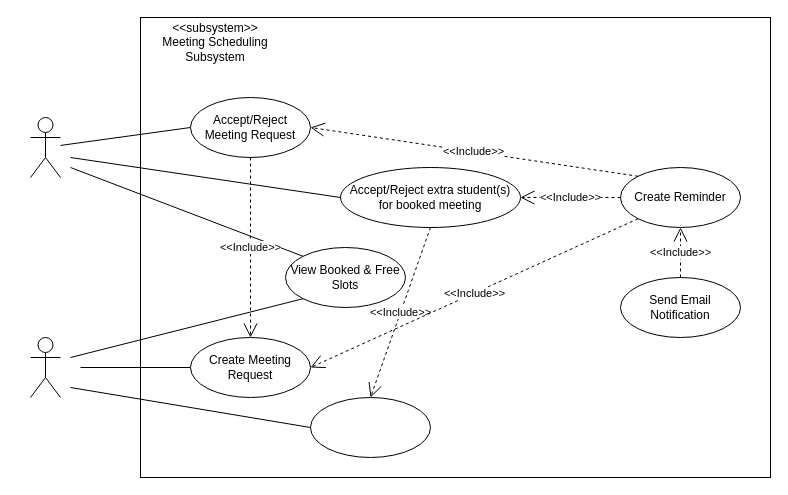
Image size: 788x495. Some labels were removed from this diagram. The shapes that lost their labels are listed below. From the top down, each one's box as (x1, y1, x2, y2) in pixels, then its label:
(30, 116, 60, 178): Supervisor
(30, 336, 60, 398): Student
(310, 396, 430, 458): Request to be added to booked meeting
